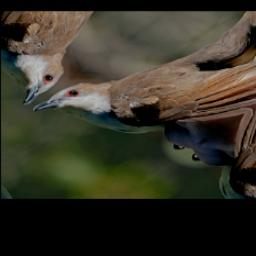Cuckoo: (31, 13, 256, 180)
